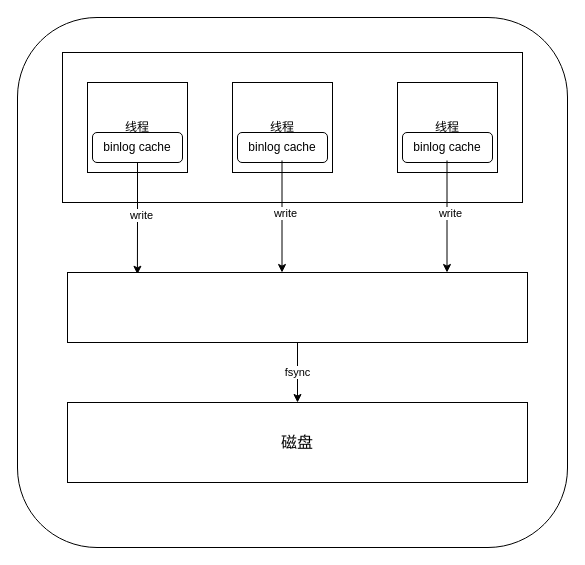
Some shapes in this 585 by 565 pixel diagram are drawn without their labels. Each missing label, with the centre of its shape:
"MySQL" belongs at point (280, 72).
"内核 page cache" belongs at point (297, 307).
